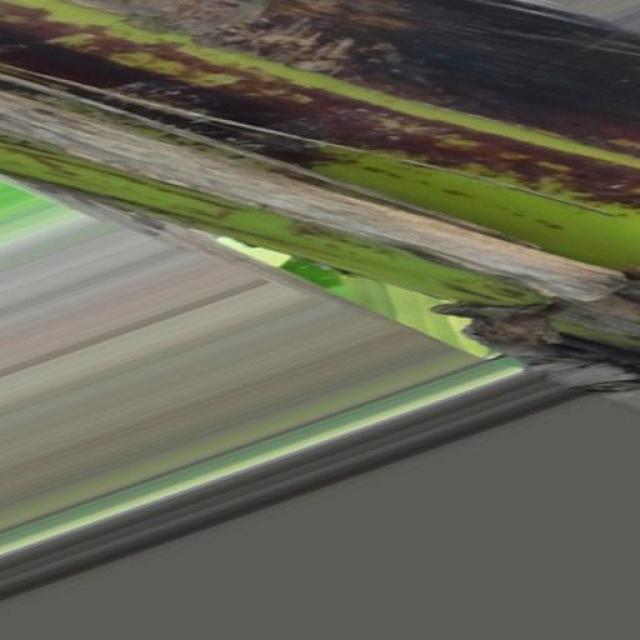Anthracnose: (1, 0, 640, 419)
